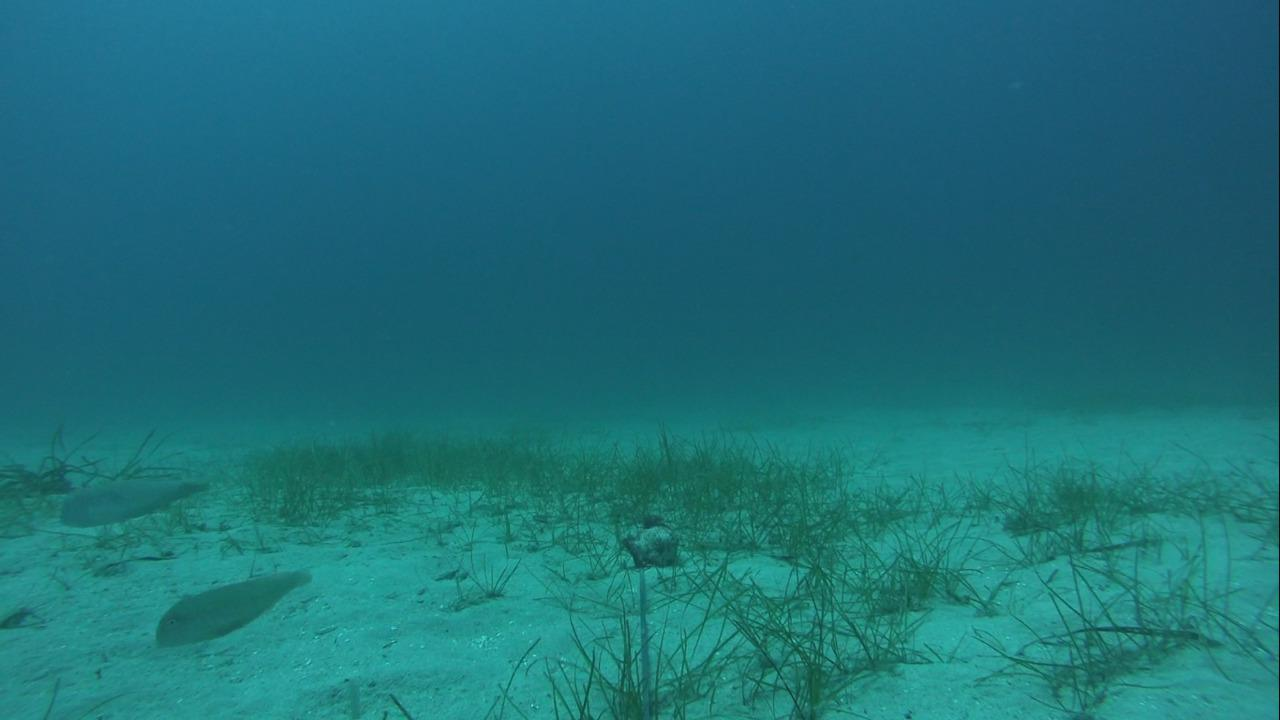raor: (151, 563, 320, 647), (55, 475, 232, 527)
